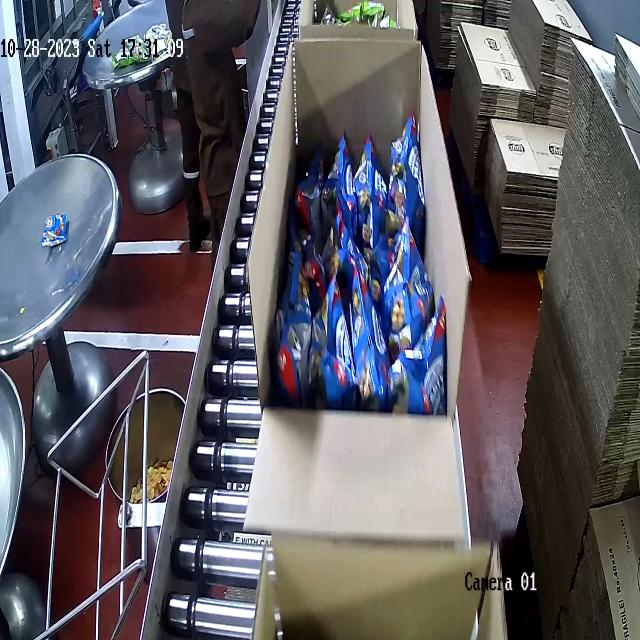PAPRIKA: (270, 138, 456, 405)
